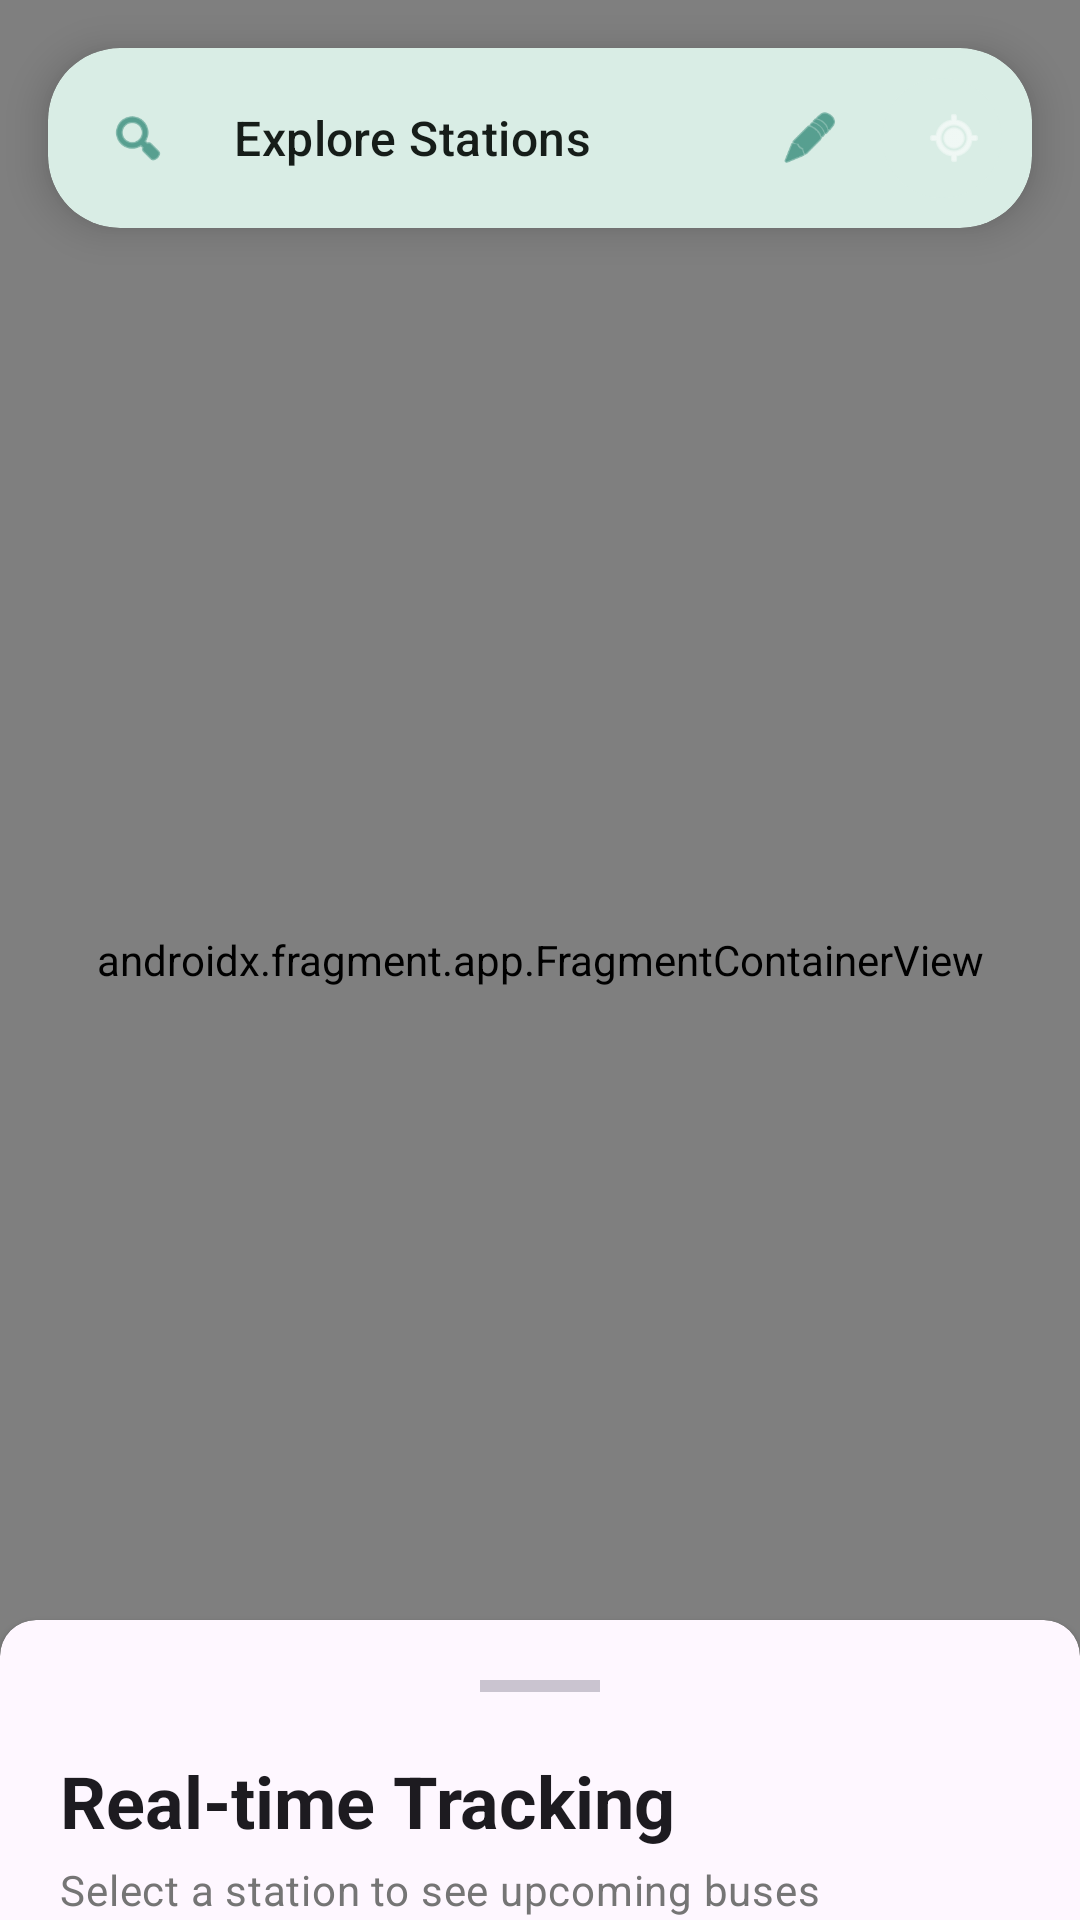

Named icons in this screenshot (1080×1920) and their bounding boxes, bbox(x1, y1, x2, y2):
edit: bbox(784, 112, 835, 163)
search: bbox(116, 116, 160, 161)
